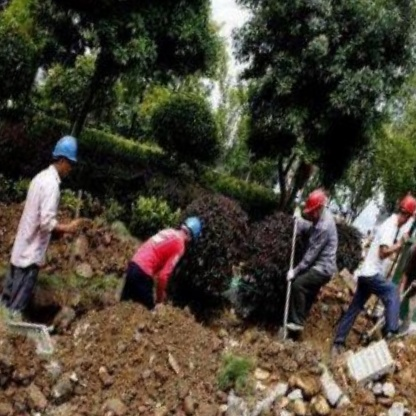blue: (43, 124, 89, 170), (176, 207, 205, 241)
red: (296, 179, 332, 222), (396, 187, 416, 217), (414, 219, 416, 251)
